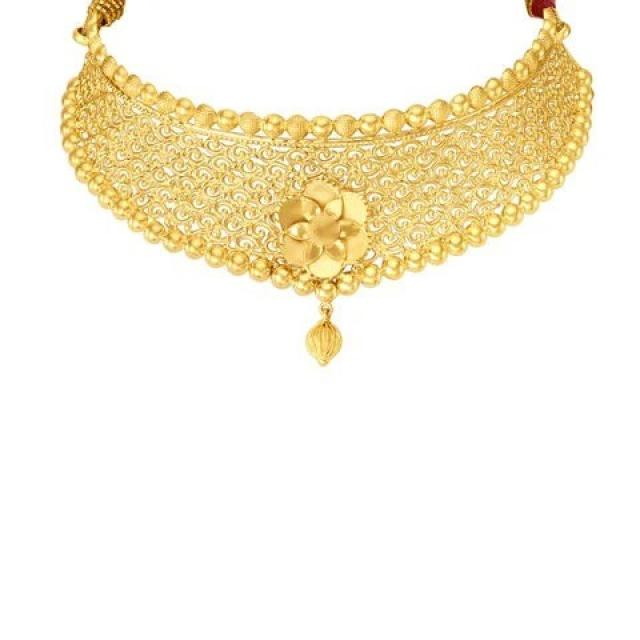missing gem: (307, 212, 339, 245)
